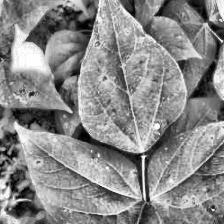ALS: (75, 3, 145, 134), (91, 159, 144, 205), (22, 68, 66, 110), (159, 184, 199, 221), (23, 148, 63, 180), (196, 112, 224, 151)
